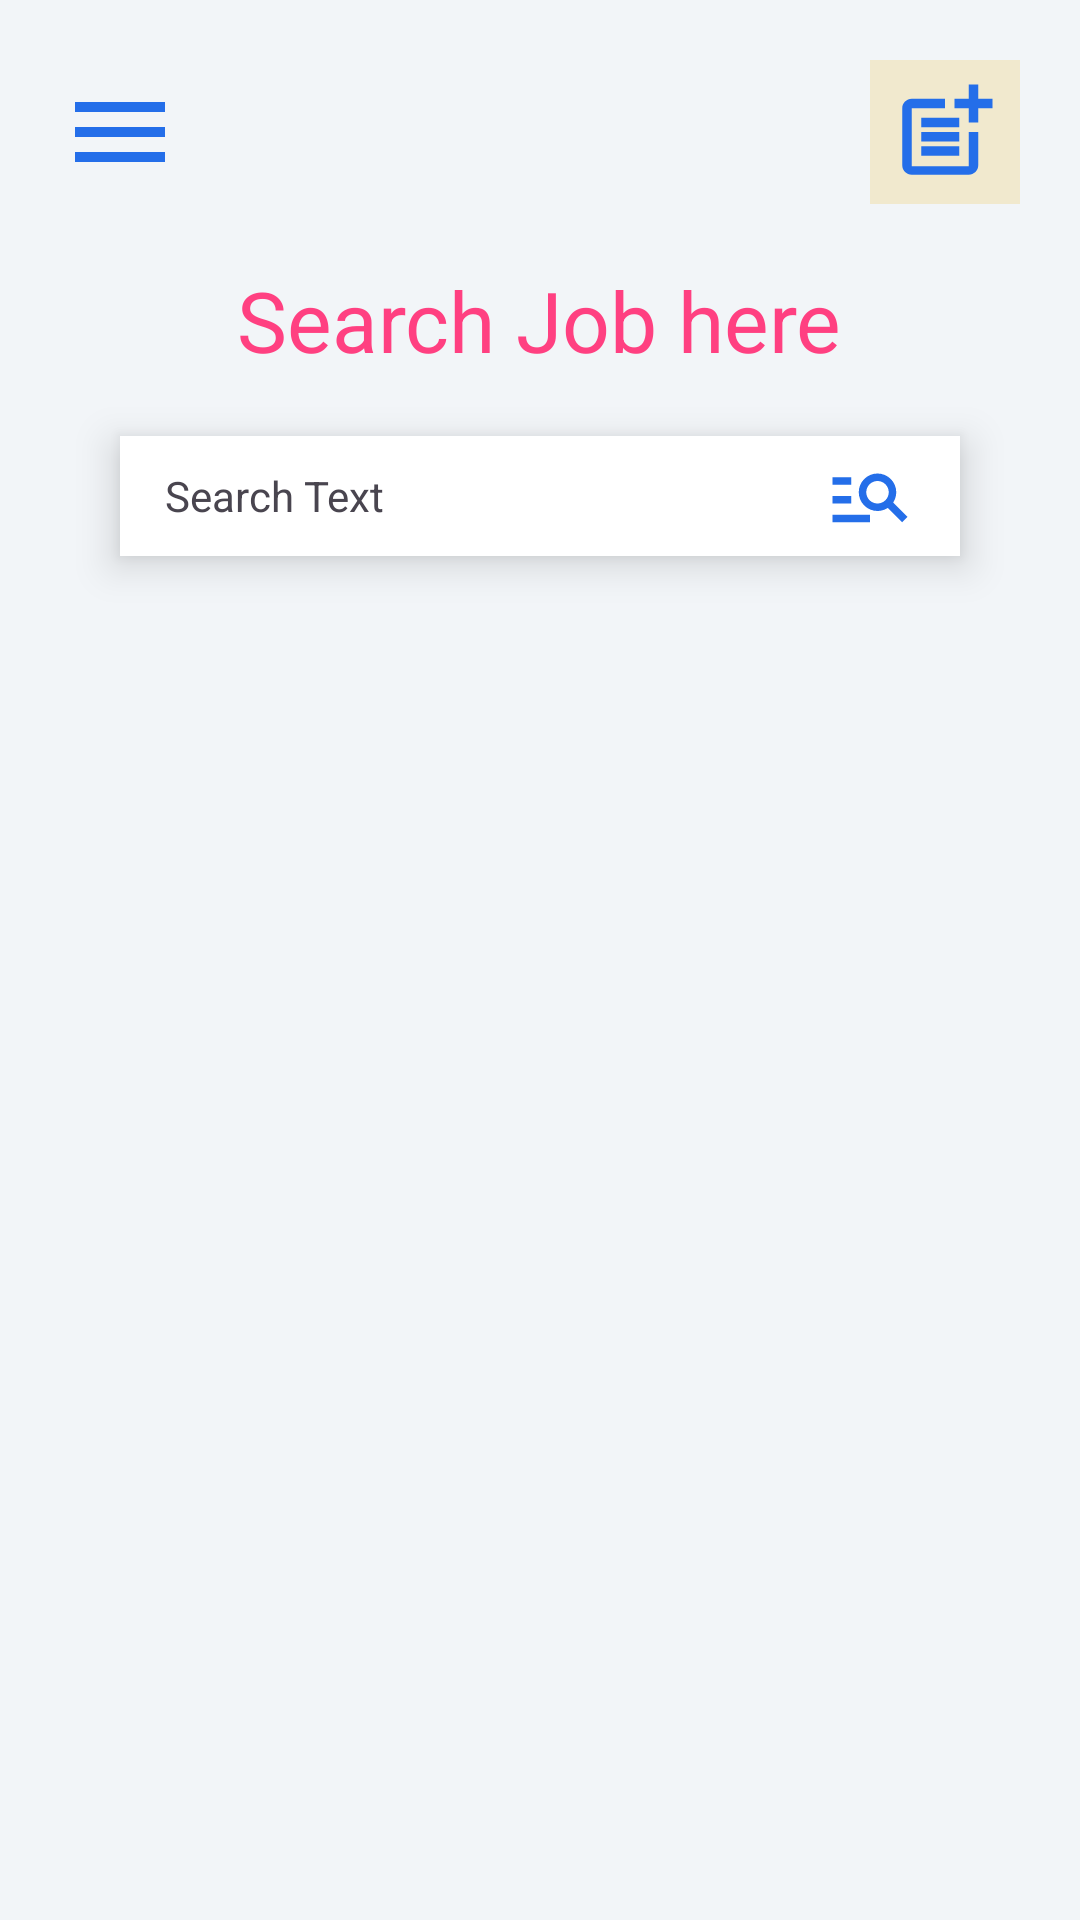

Point at icon controls on the screen. Image size 1080 × 1920, points as (x=x, y=y).
add missing place: (x=945, y=132)
menu: (x=120, y=132)
